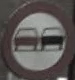No overtake: (6, 5, 68, 71)
